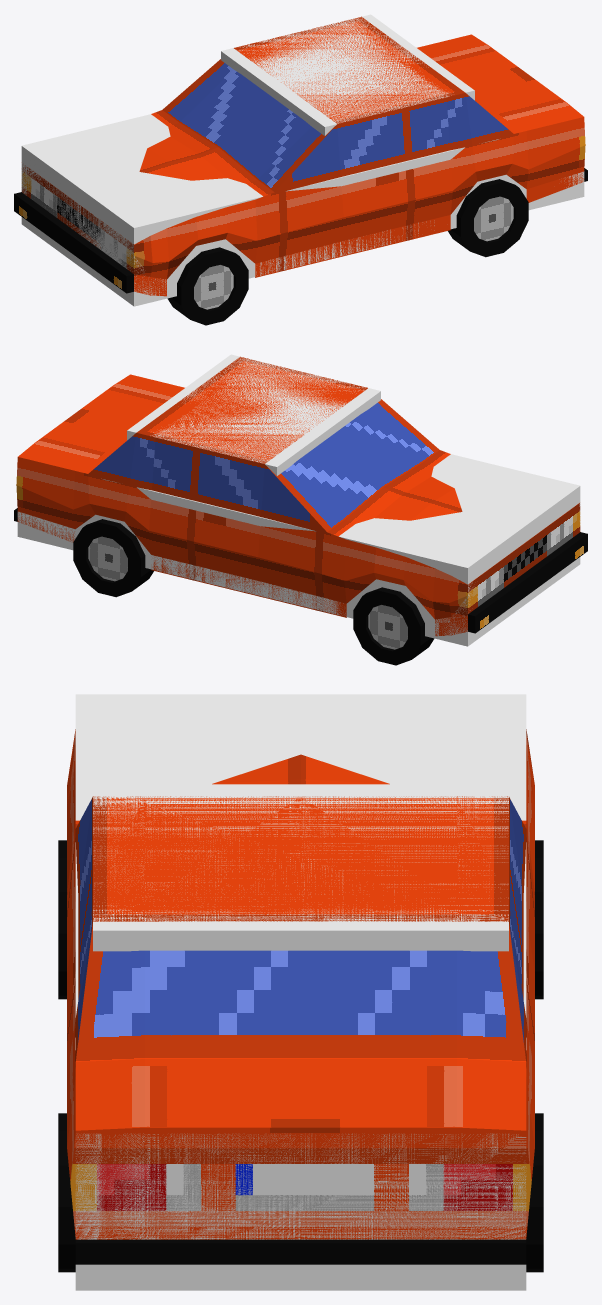
3 renders of one model, top to bottom at view 1: azimuth 30°, elevation 25°; view 2: azimuth 150°, elevation 25°; view 3: azimuth 270°, elevation 25°, orthographic. The views are drawn at different scales.
Parts seen in each view (by area): view 1: chassis, cube (×2), wheel_left_back, wheel_left_front; view 2: chassis, cube (×2), wheel_right_back, wheel_right_front; view 3: chassis, cube (×2), wheel_left_back, wheel_right_back, wheel_left_front, wheel_right_front.
Part boxes in pixels (box(x1,y1,x2,y2)): chassis: box(14, 16, 587, 296); cube (×2): box(21, 14, 584, 306); wheel_left_back: box(448, 179, 528, 257); wheel_left_front: box(167, 247, 248, 325); chassis: box(14, 356, 587, 636); cube (×2): box(17, 354, 580, 646); wheel_right_back: box(73, 519, 153, 597); wheel_right_front: box(353, 587, 434, 665); chassis: box(67, 729, 534, 1264); cube (×2): box(75, 694, 526, 1290); wheel_left_back: box(58, 1113, 75, 1272); wheel_right_back: box(526, 1113, 543, 1272); wheel_left_front: box(58, 840, 66, 999); wheel_right_front: box(535, 840, 543, 999).
Bounding box in the file's own units: 3.84 × 1.28 × 1.75.
Materials: 3 (1 with a texture image).
